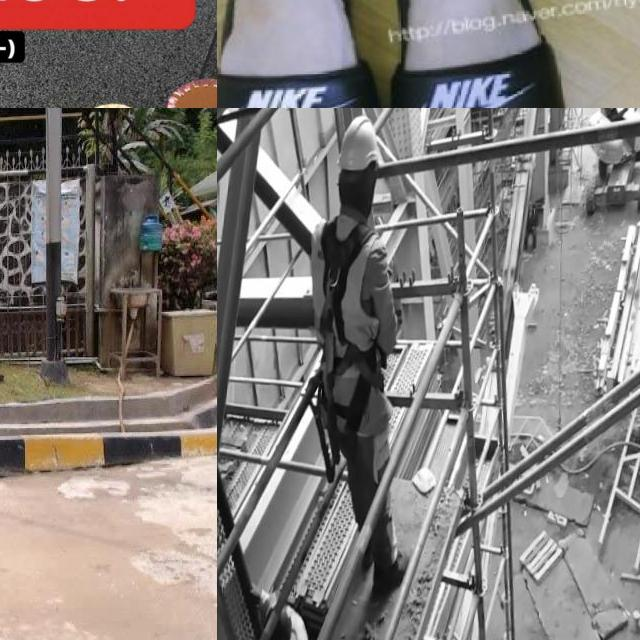Harness: (320, 216, 374, 344)
Sandals: (217, 0, 387, 108), (0, 62, 217, 108), (156, 1, 217, 108)
